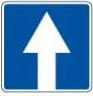road_sign: (1, 1, 92, 93)
